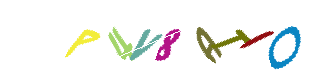4: (107, 0, 187, 80)
8: (128, 0, 208, 80)
A: (130, 0, 210, 80)
I: (216, 0, 296, 80)
O: (244, 0, 324, 80)
P: (43, 0, 123, 80)
T: (177, 0, 257, 80)
V: (122, 0, 202, 80)
